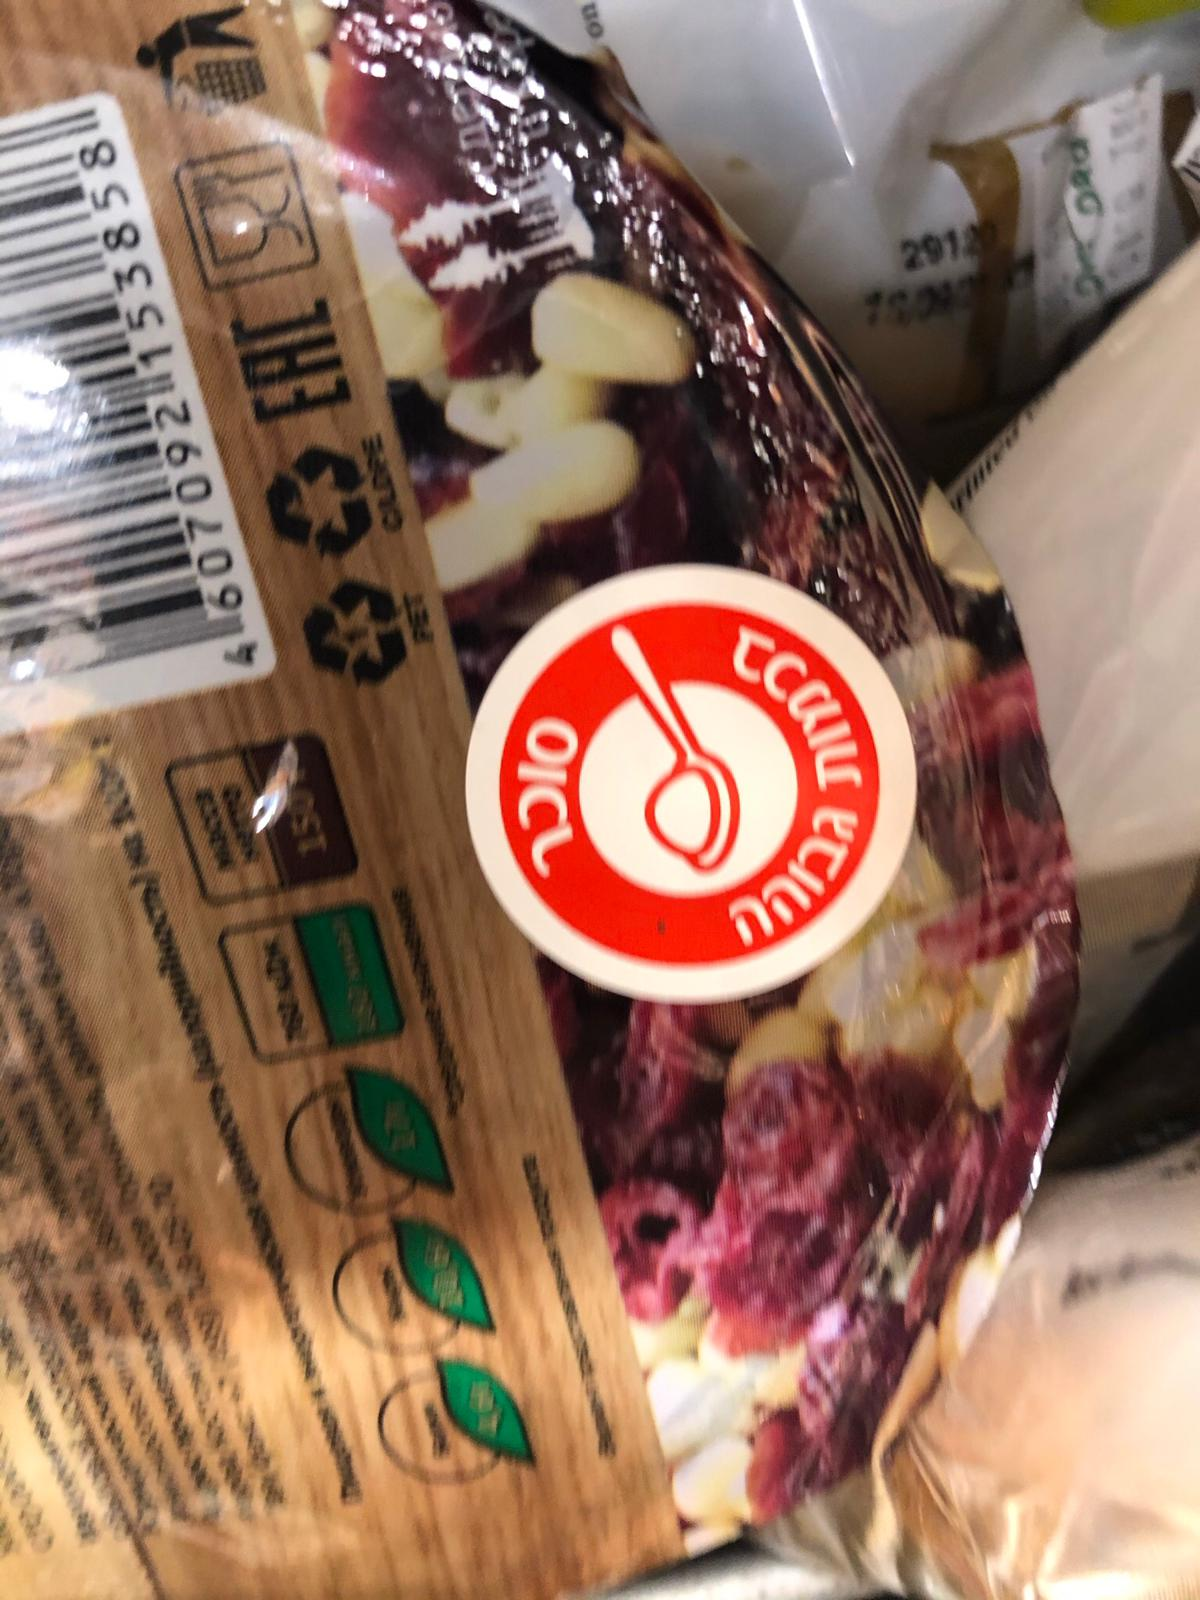sugar: (451, 564, 914, 1000)
